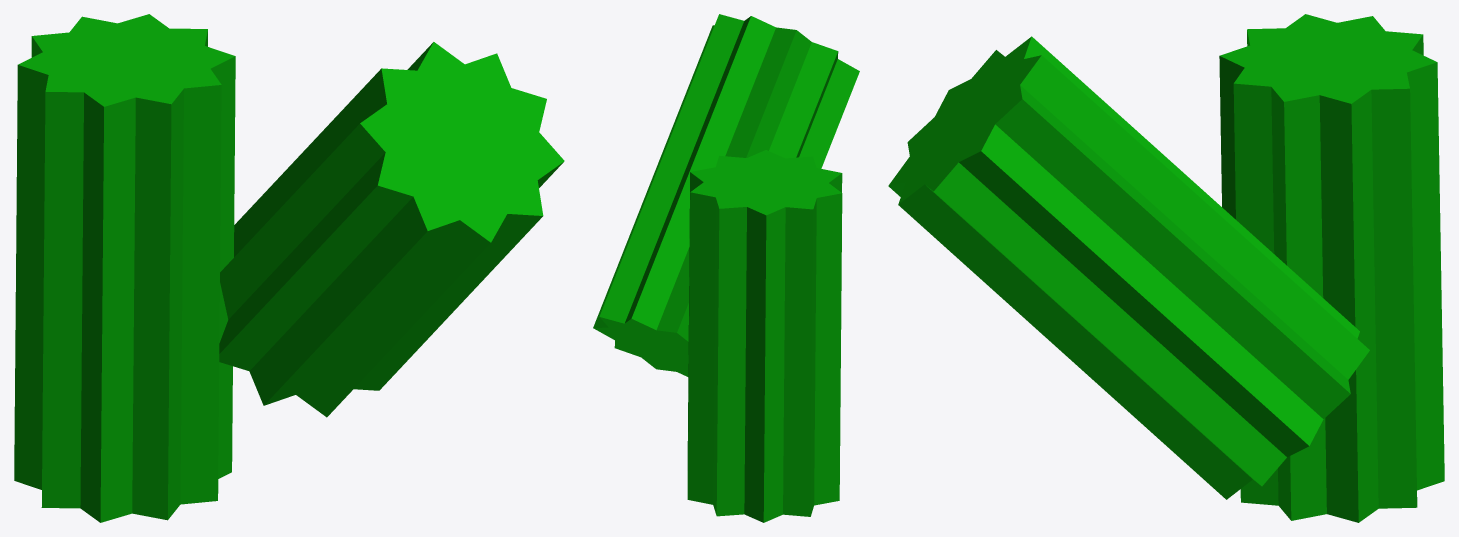
File: centriolo.glb
3 views of the same model, side by side, from view 1: azimuth 30°, elevation 25°; view 2: azimuth 150°, elevation 25°; view 3: azimuth 270°, elevation 25° (orthographic). The views are drawn at different scales.
Parts seen in each view (by area): view 1: Object_207; view 2: Object_207; view 3: Object_207.
Part boxes in pixels (x1,y1,x2,y2): Object_207: (14,14,564,522); Object_207: (593,14,859,522); Object_207: (888,14,1444,522).
Size of the model in its own units: 2.73 by 3.87 by 3.87.
